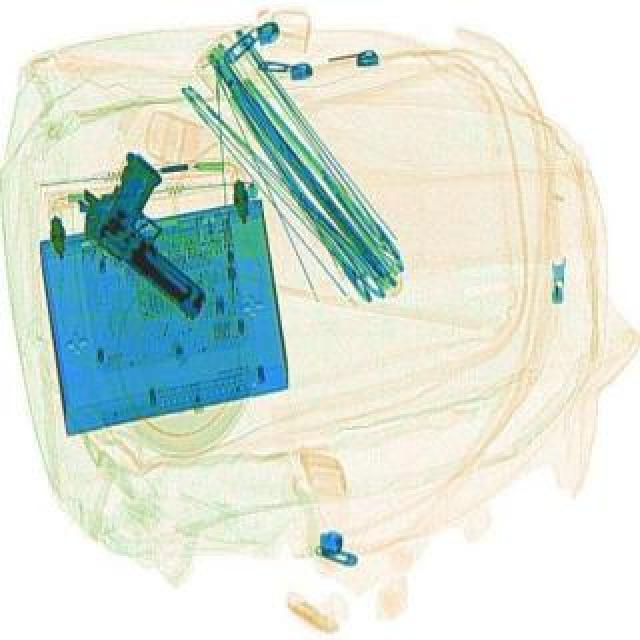gun: (62, 148, 262, 328)
